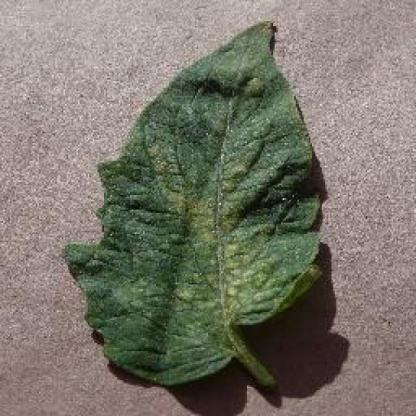Tomato_Spider_Mites: (60, 21, 320, 382)
